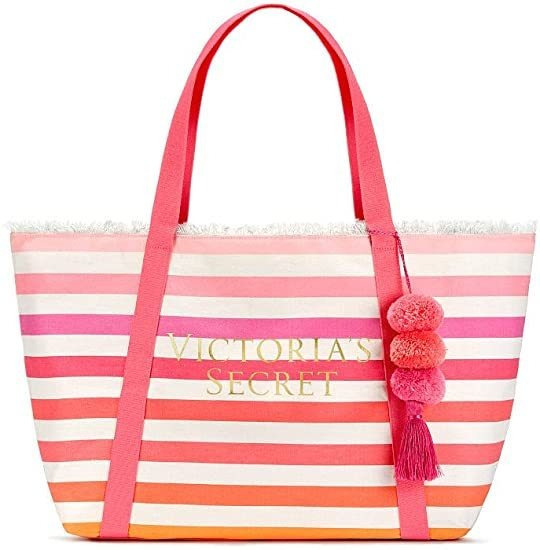cartera: (8, 2, 535, 544)
